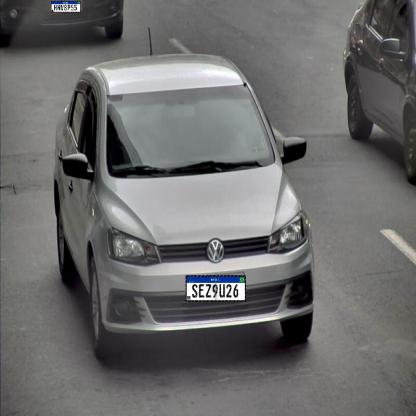PlacaM: (186, 275, 246, 302), (51, 0, 81, 12)
